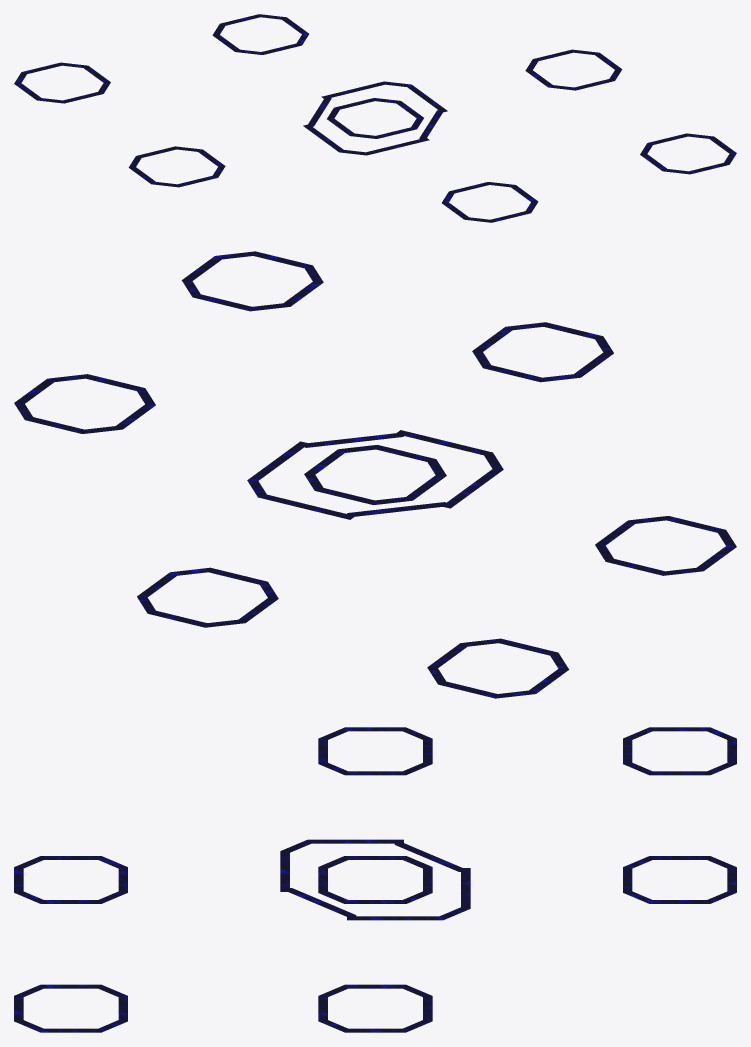
The model's file is DF_00_XTRA_1.fbx.
3 renders of one model, top to bottom at view 1: azimuth 30°, elevation 25°; view 2: azimuth 150°, elevation 25°; view 3: azimuth 270°, elevation 25°, orthographic. The views are drawn at different scales.
Visible parts, largest first — view 1: DF_00_XTRA_1; view 2: DF_00_XTRA_1; view 3: DF_00_XTRA_1.
Part boxes in pixels (box(x1,y1,x2,y2)): DF_00_XTRA_1: box(14, 14, 736, 222); DF_00_XTRA_1: box(14, 251, 736, 698); DF_00_XTRA_1: box(14, 727, 736, 1032).
Bounding box in the file's own units: 3800 × 0.00061 × 3800.
